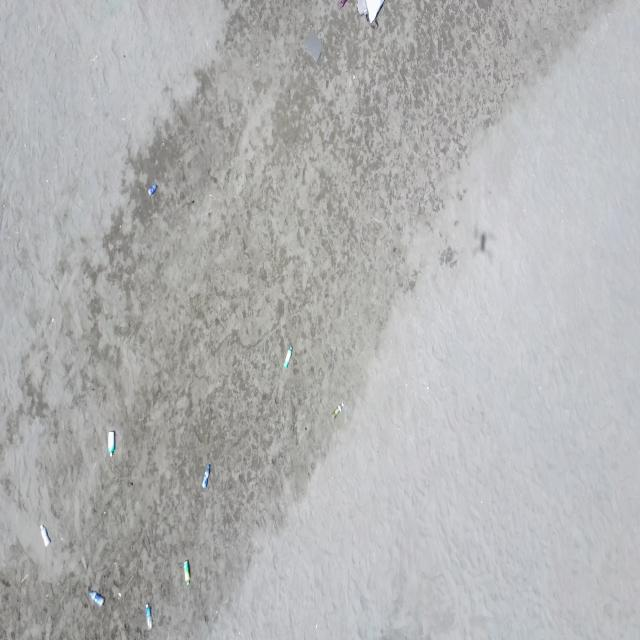plastic-bottle: (88, 589, 107, 607), (331, 401, 345, 423), (202, 463, 212, 490), (144, 603, 154, 630), (40, 524, 51, 547), (108, 429, 116, 459), (184, 558, 192, 586), (284, 346, 293, 369), (148, 180, 156, 196)
